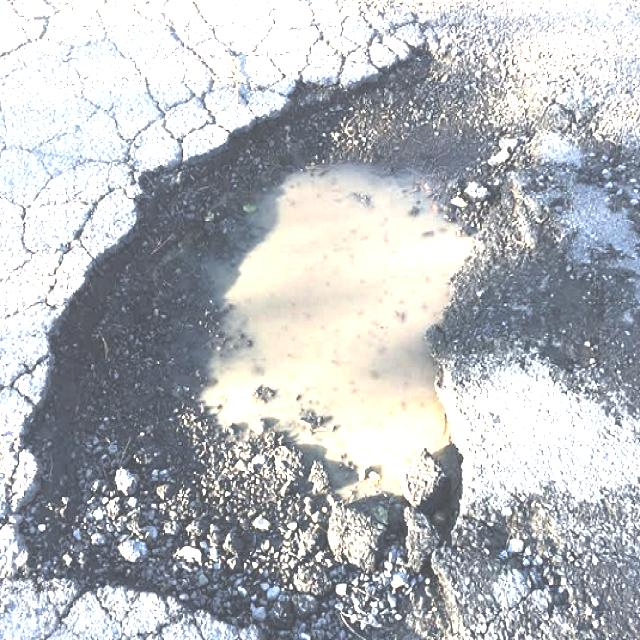Pothole: (8, 32, 640, 640)
